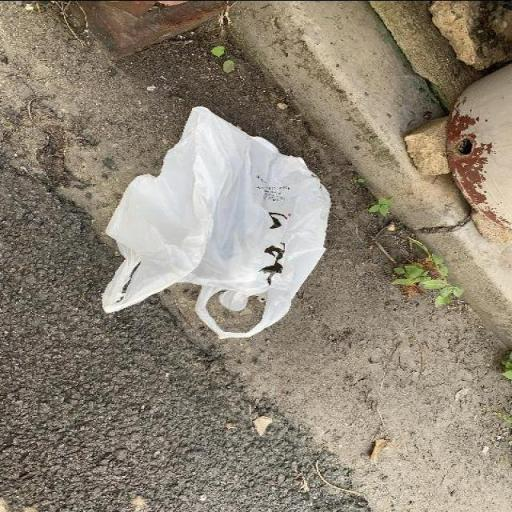plastic-bag: (96, 100, 328, 334)
